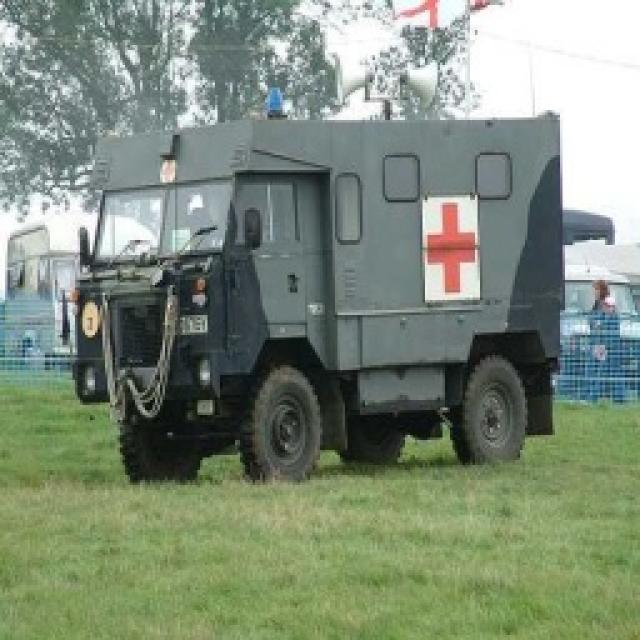emergency-vehicle: (47, 65, 640, 493)
